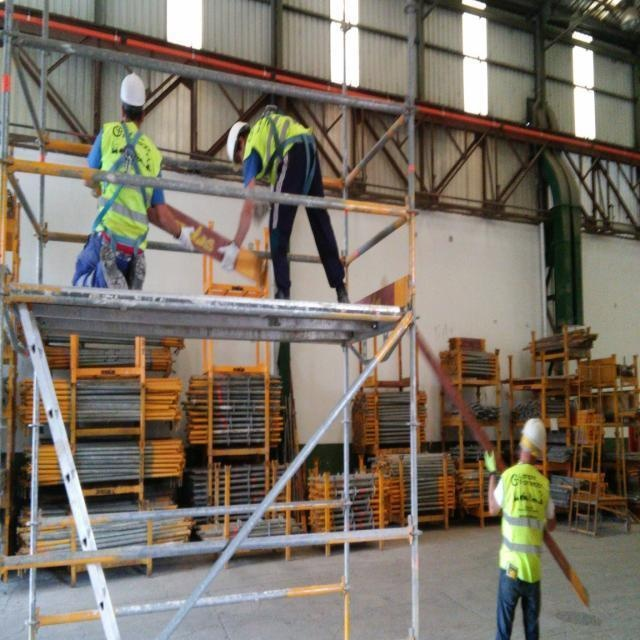Arnes_seguridad: (90, 122, 148, 237), (248, 113, 318, 199)
